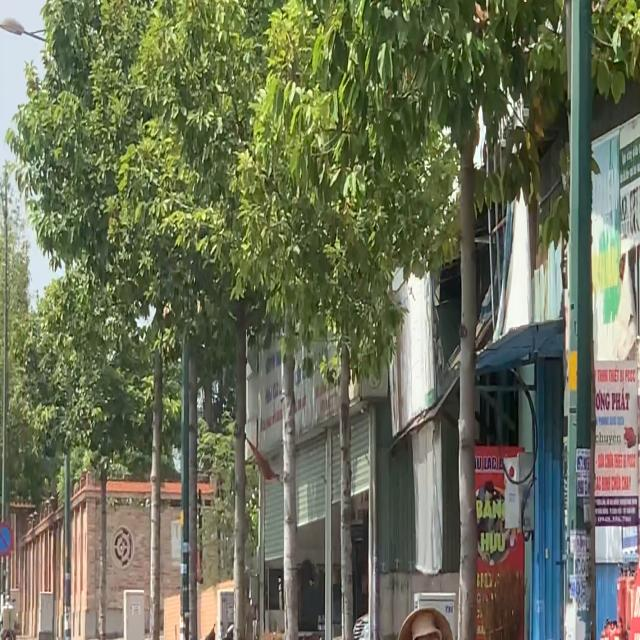Cam do: (0, 518, 17, 561)
